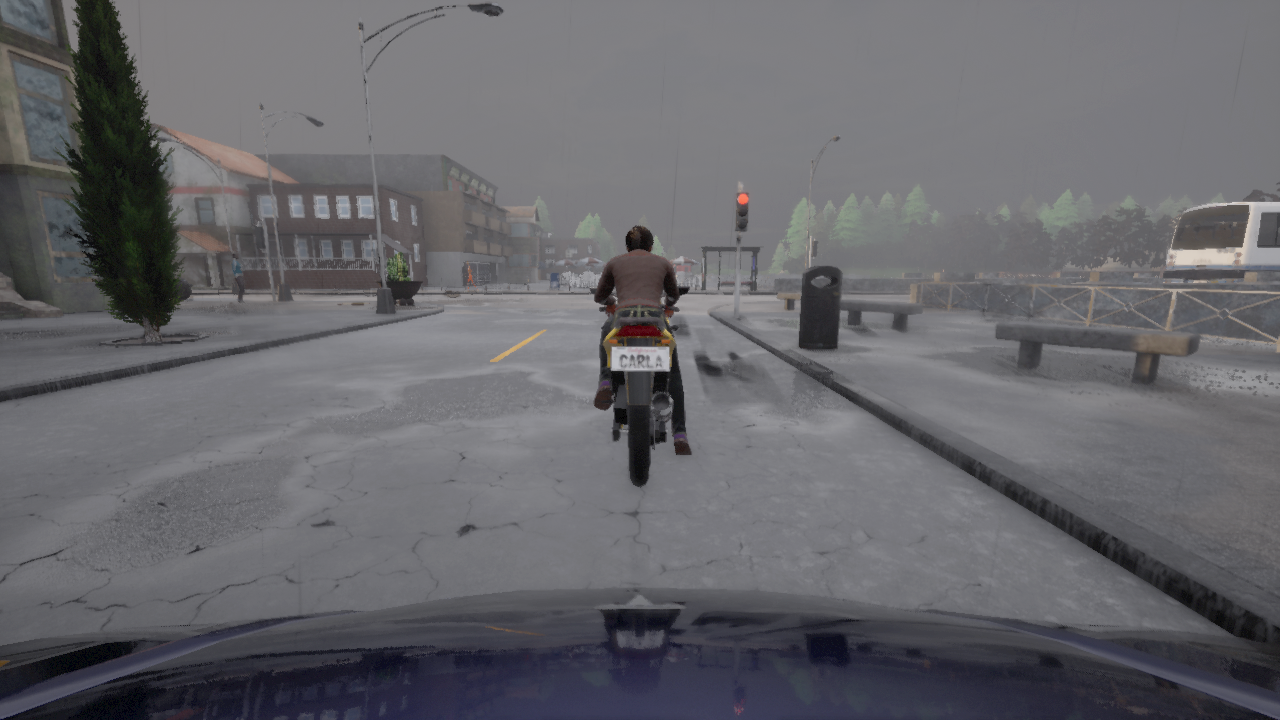cyclist: (0, 588, 1279, 719), (589, 287, 689, 486), (1163, 202, 1279, 283), (175, 275, 192, 298)
pedestrian: (230, 253, 247, 303), (463, 261, 478, 292), (1209, 275, 1219, 283)
